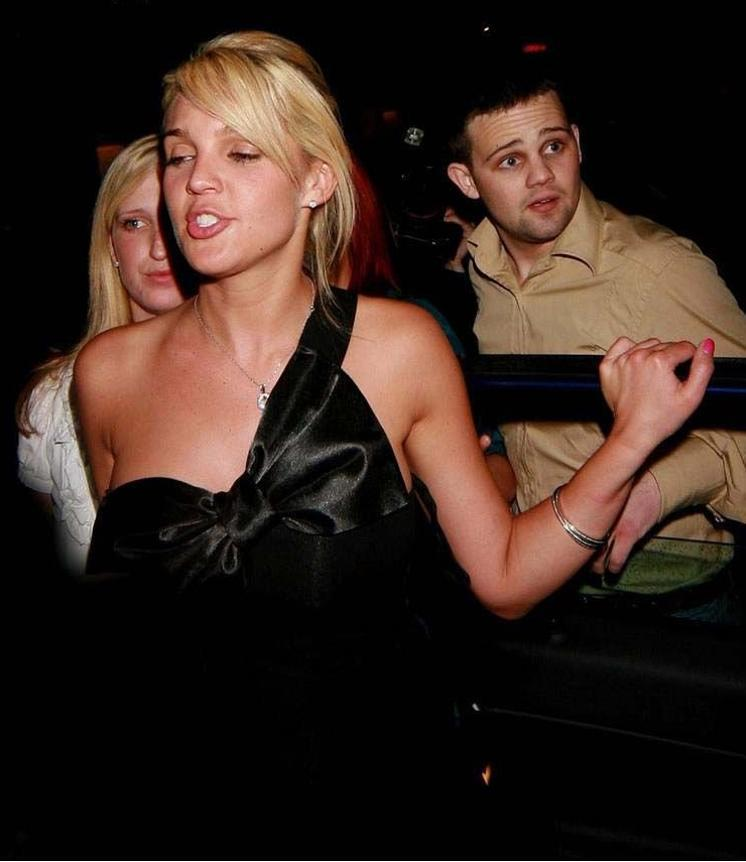Drunk: (165, 100, 291, 266), (463, 108, 586, 234)
